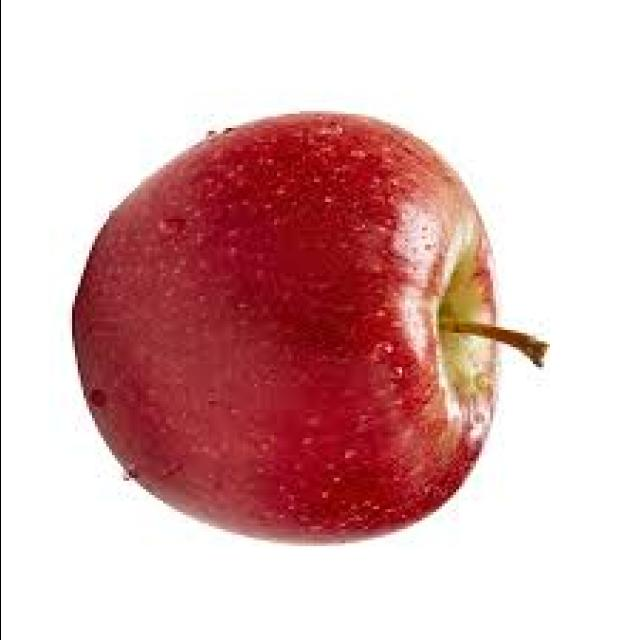apple: (59, 100, 520, 556)
